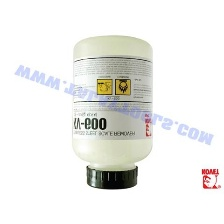cleaning_solution: (69, 32, 155, 190)
